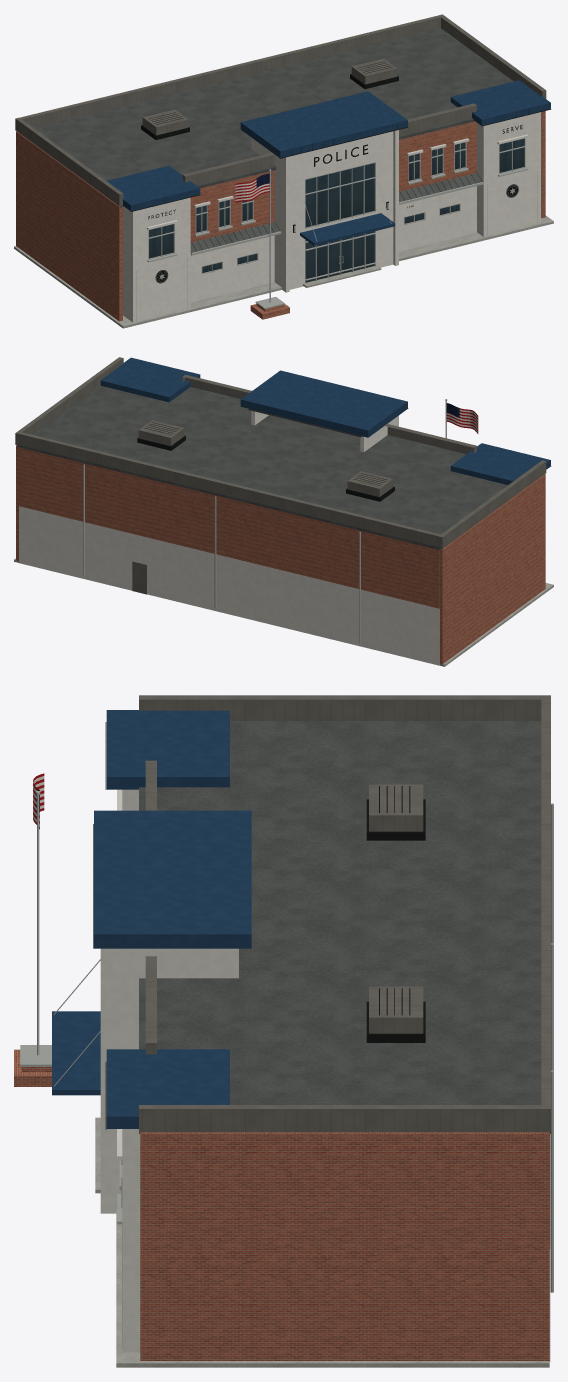
File: police_station.glb
3 renders of one model, top to bottom at view 1: azimuth 30°, elevation 25°; view 2: azimuth 150°, elevation 25°; view 3: azimuth 270°, elevation 25°, orthographic. The views are drawn at different scales.
Parts seen in each view (by area): view 1: PoliceStation_LOD0_0; view 2: PoliceStation_LOD0_0; view 3: PoliceStation_LOD0_0.
Part boxes in pixels (bbox=[...]): PoliceStation_LOD0_0: bbox=[14, 14, 553, 328]; PoliceStation_LOD0_0: bbox=[14, 357, 553, 666]; PoliceStation_LOD0_0: bbox=[14, 695, 553, 1367].
Bounding box in the file's own units: 32.8 × 10.5 × 17.95.
Materials: 1 (1 with a texture image).
